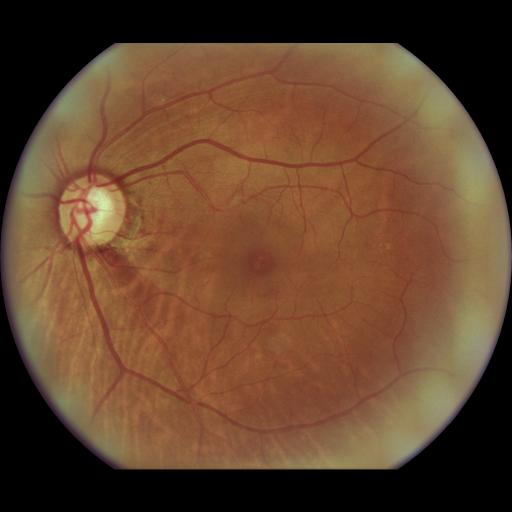Optic Cup: (73, 187, 113, 232)
Optic Disc: (59, 171, 128, 246)
